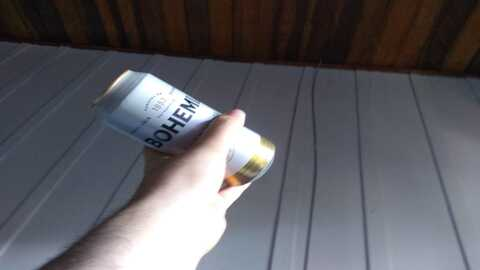bohemia: (99, 72, 273, 181)
